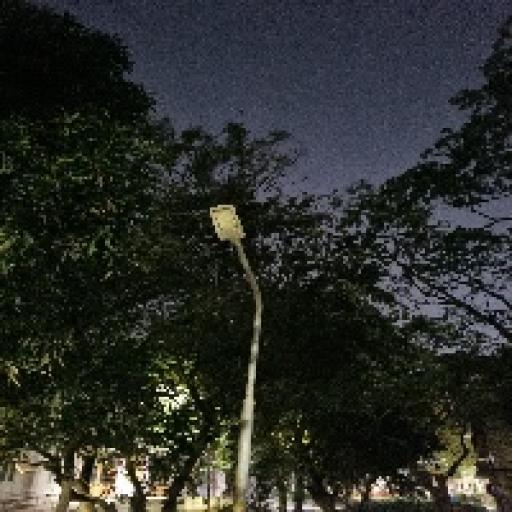Not Working: (203, 196, 258, 256)
